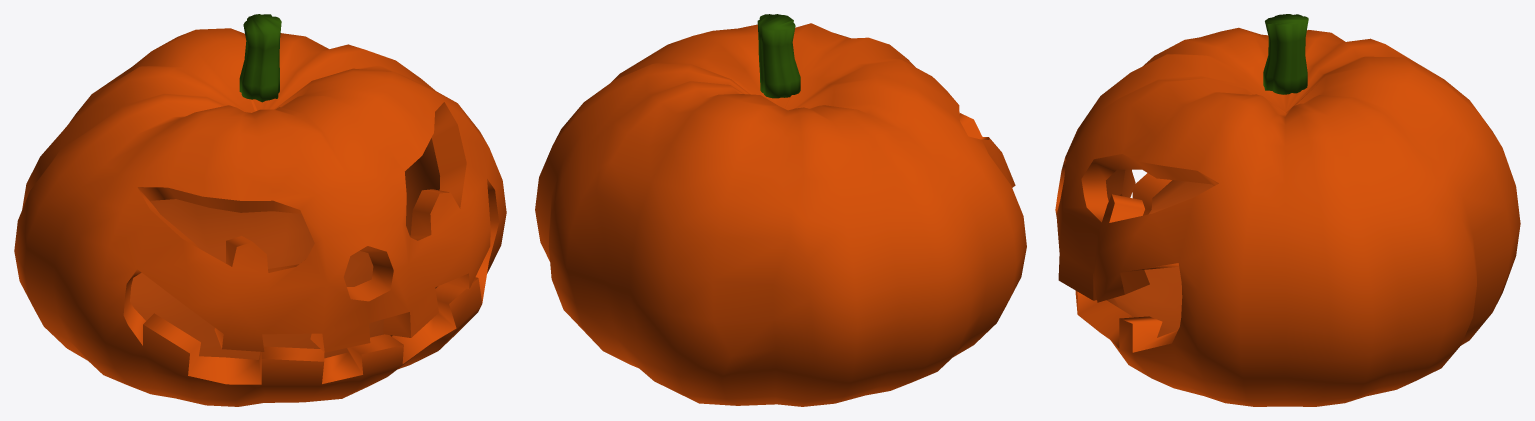
The model's file is Jack-o’-lantern_2_Wide.fbx.
3 renders of one model, left to right at view 1: azimuth 30°, elevation 25°; view 2: azimuth 150°, elevation 25°; view 3: azimuth 270°, elevation 25°, orthographic.
Visible parts, largest first — view 1: Jack-o’-lantern 2 Wide; view 2: Jack-o’-lantern 2 Wide; view 3: Jack-o’-lantern 2 Wide.
Boxes of the visible parts, x1,y1,x2,y2 form: Jack-o’-lantern 2 Wide: (14,14,506,406); Jack-o’-lantern 2 Wide: (535,14,1026,406); Jack-o’-lantern 2 Wide: (1055,14,1520,406).
Bounding box in the file's own units: 158 × 120 × 147.
